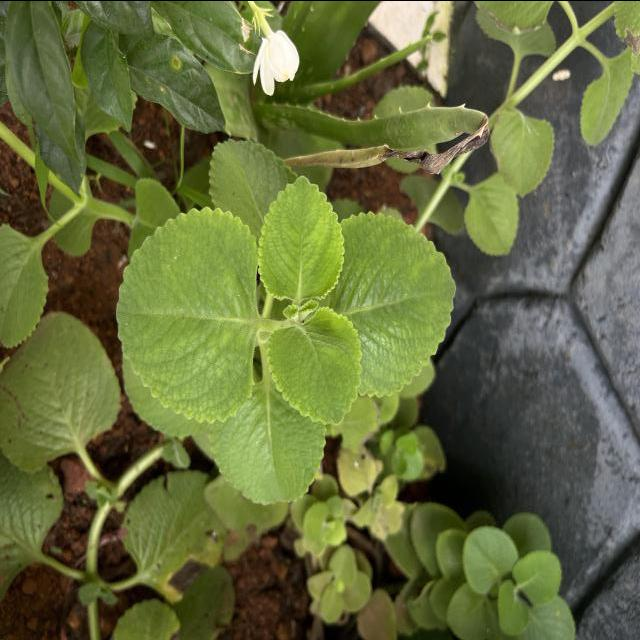Plectranthus barbatus: (114, 205, 260, 425), (339, 208, 458, 398), (0, 306, 122, 476), (208, 379, 328, 507), (266, 304, 364, 426), (256, 172, 346, 301), (208, 134, 298, 232), (0, 222, 50, 350), (489, 105, 556, 199), (578, 46, 636, 148), (463, 172, 520, 256), (461, 522, 519, 594), (512, 548, 562, 604), (496, 578, 530, 636)
